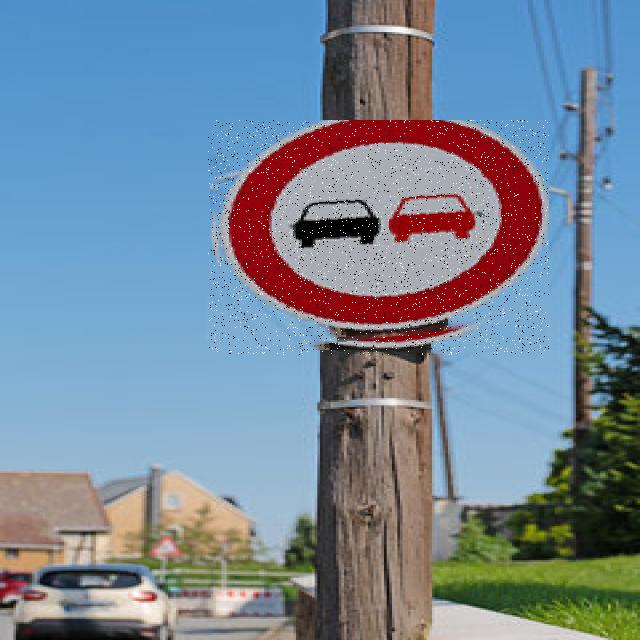no overtaking: (208, 120, 549, 355)
